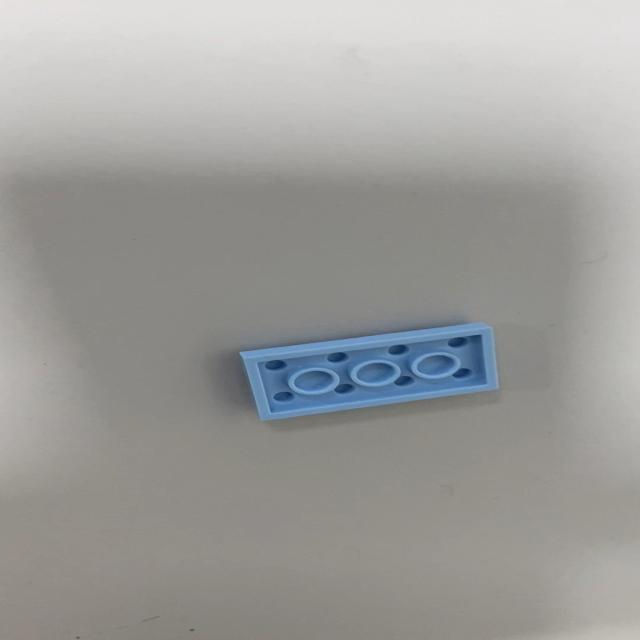C4x2x0: (237, 321, 500, 422)
